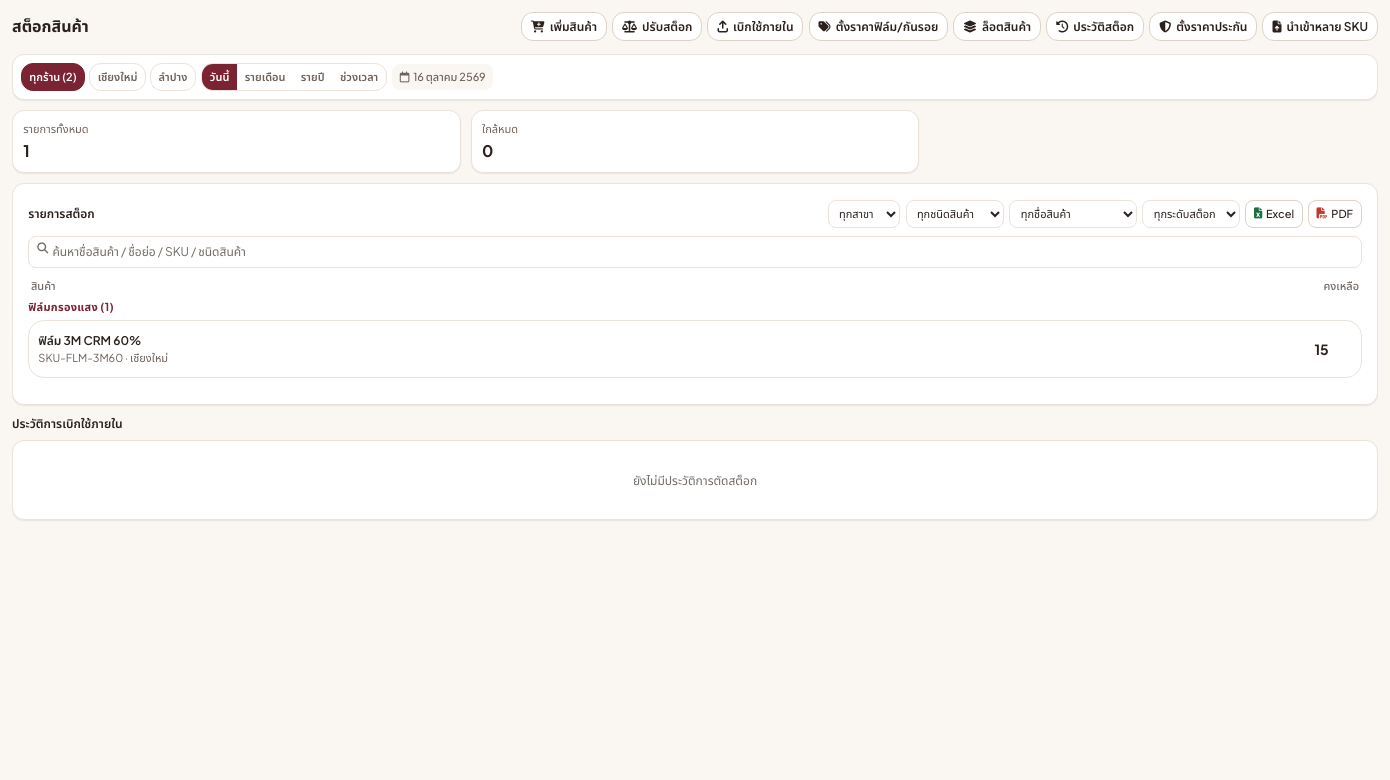
Test: StockModule — ตั้งราคาฟิล์ม แยกตามสาขา › เก็บราคาไว้กับสาขาที่เลือก — ราคากลางไม่ถูกทับ
Click the button "ตั้งราคาฟิล์ม/กันรอย" at (878, 27), box top-left (809, 12), bottom-right (948, 41)
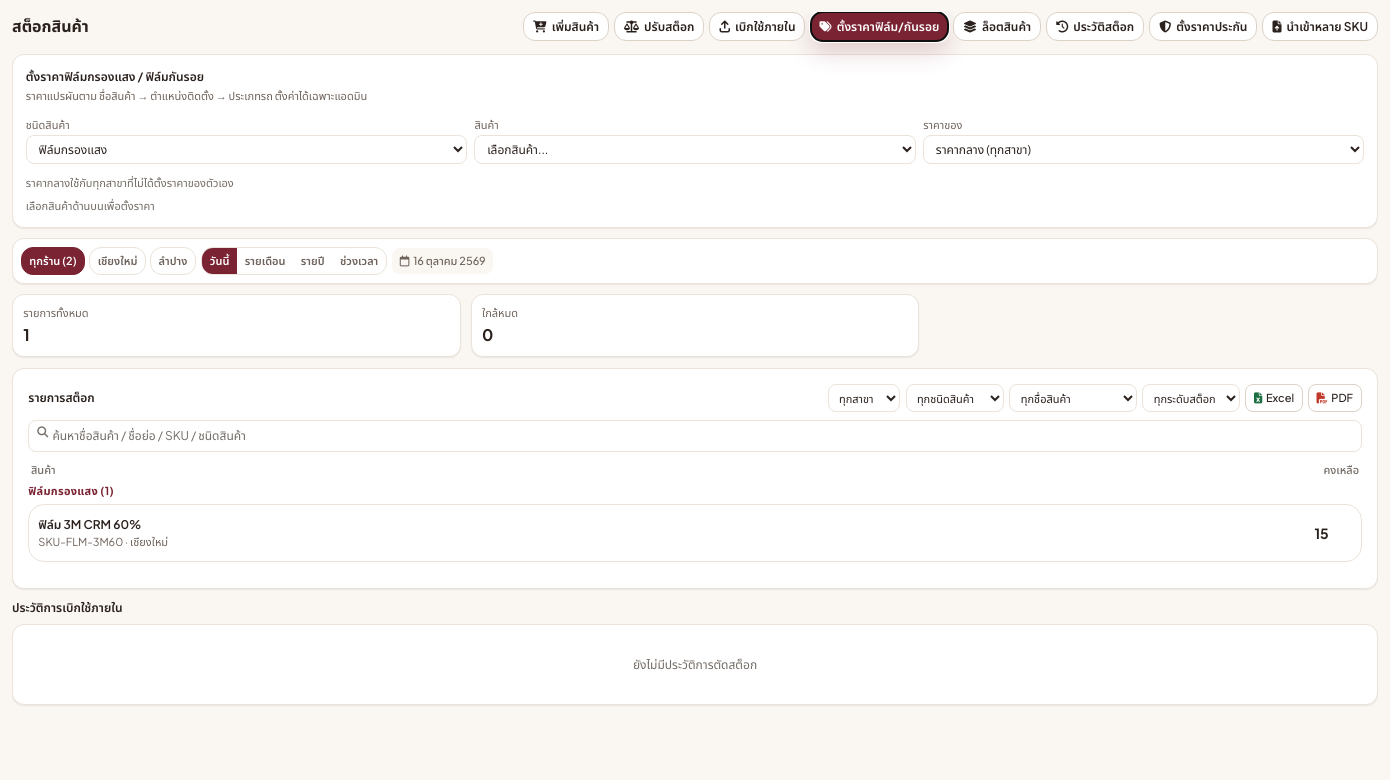
Select "ฟิล์ม 3M CRM 60%" in the dropdown named "สินค้าสำหรับตั้งราคา" at (695, 150), box top-left (474, 135), bottom-right (916, 164)
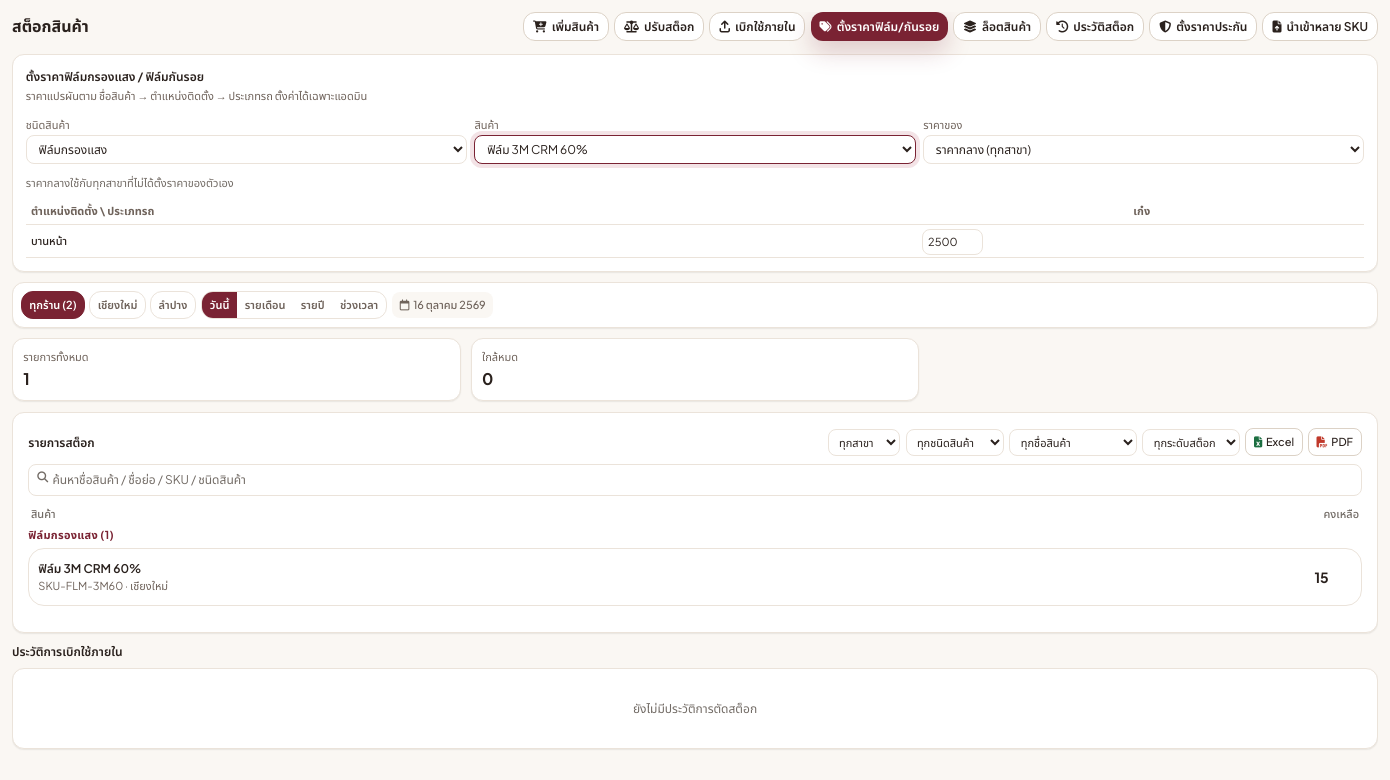
Now the number field named "ราคา บานหน้า เก๋ง" holds "2500", box top-left (922, 229), bottom-right (983, 255)
Select "ลำปาง" in the dropdown named "สาขาสำหรับตั้งราคา" at (1144, 150), box top-left (923, 135), bottom-right (1364, 164)
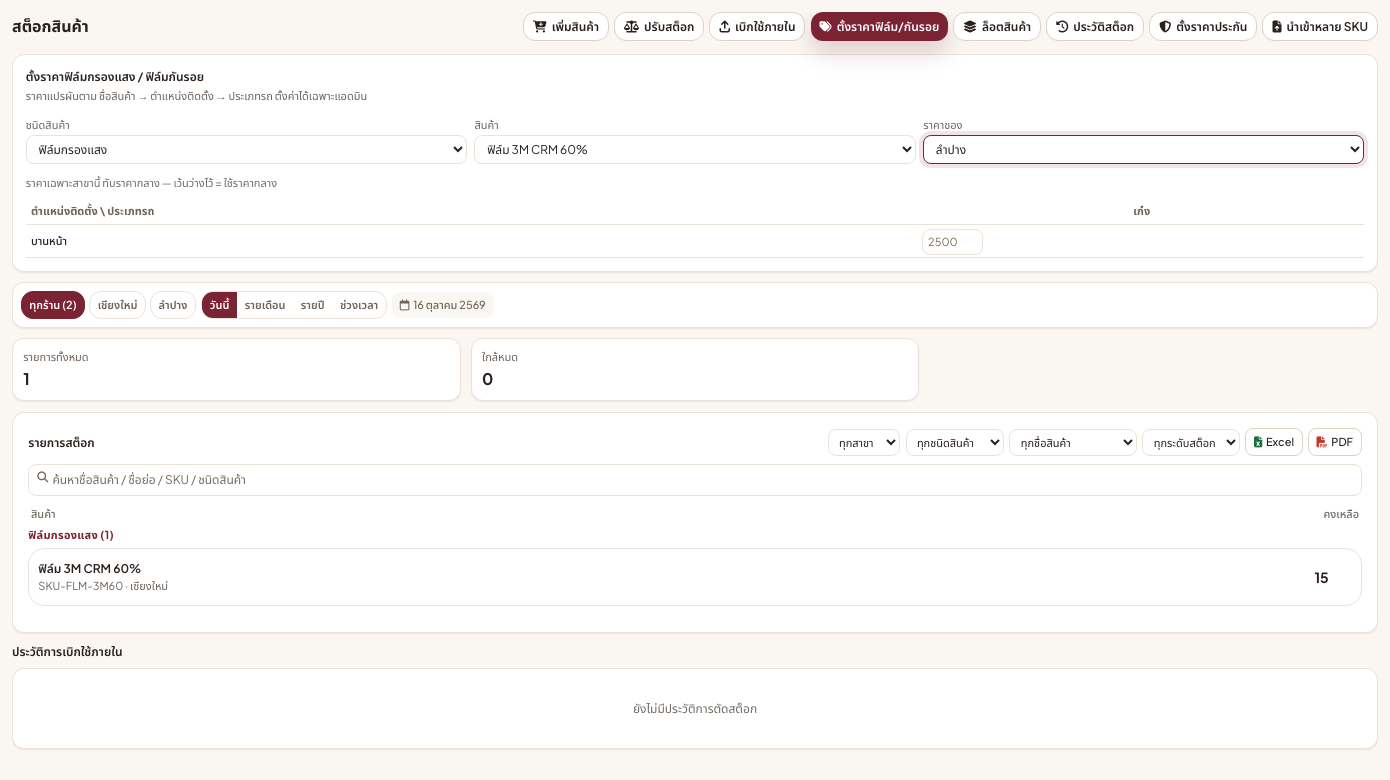
Now the number field named "ราคา บานหน้า เก๋ง" is not empty
Type "2800" into the number field named "ราคา บานหน้า เก๋ง" at (953, 242), box top-left (922, 229), bottom-right (983, 255)
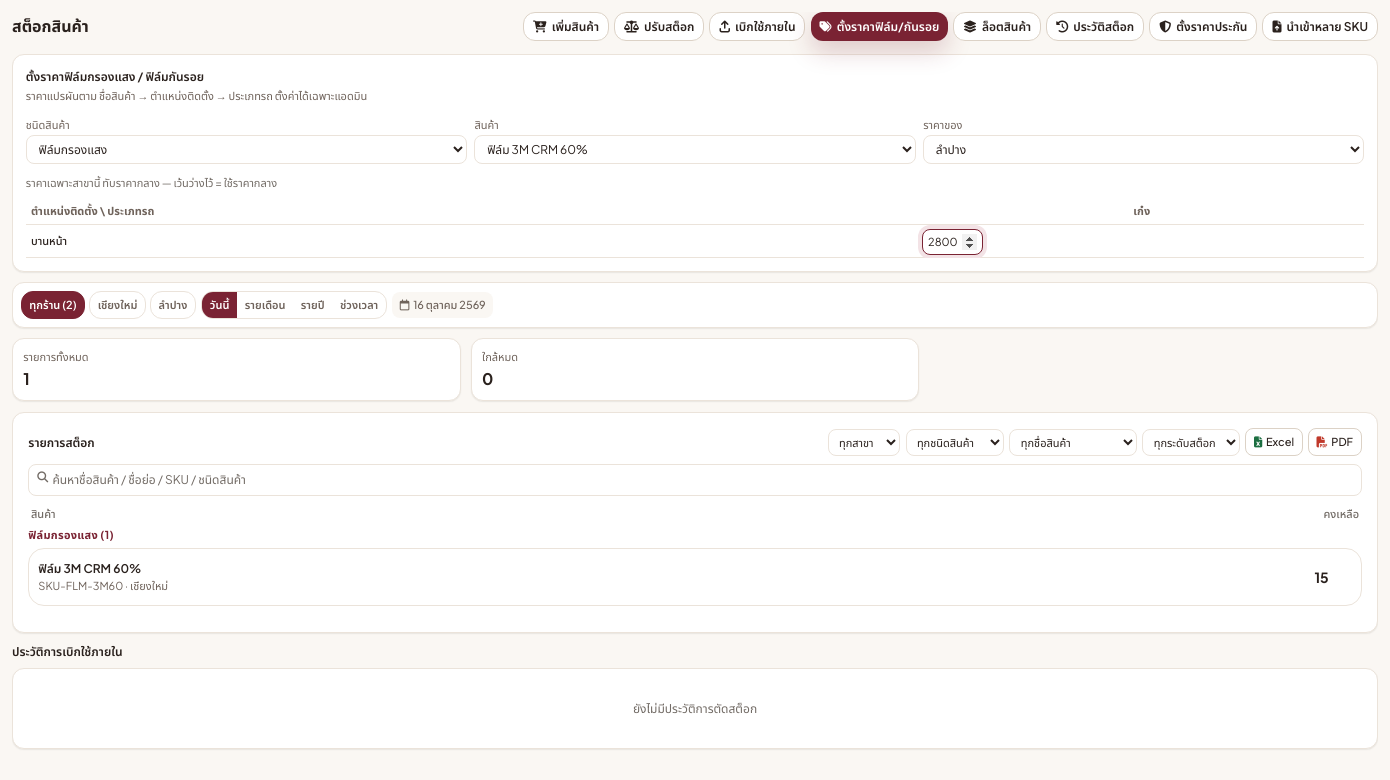
Select "ราคากลาง (ทุกสาขา)" in the dropdown named "สาขาสำหรับตั้งราคา" at (1144, 150), box top-left (923, 135), bottom-right (1364, 164)
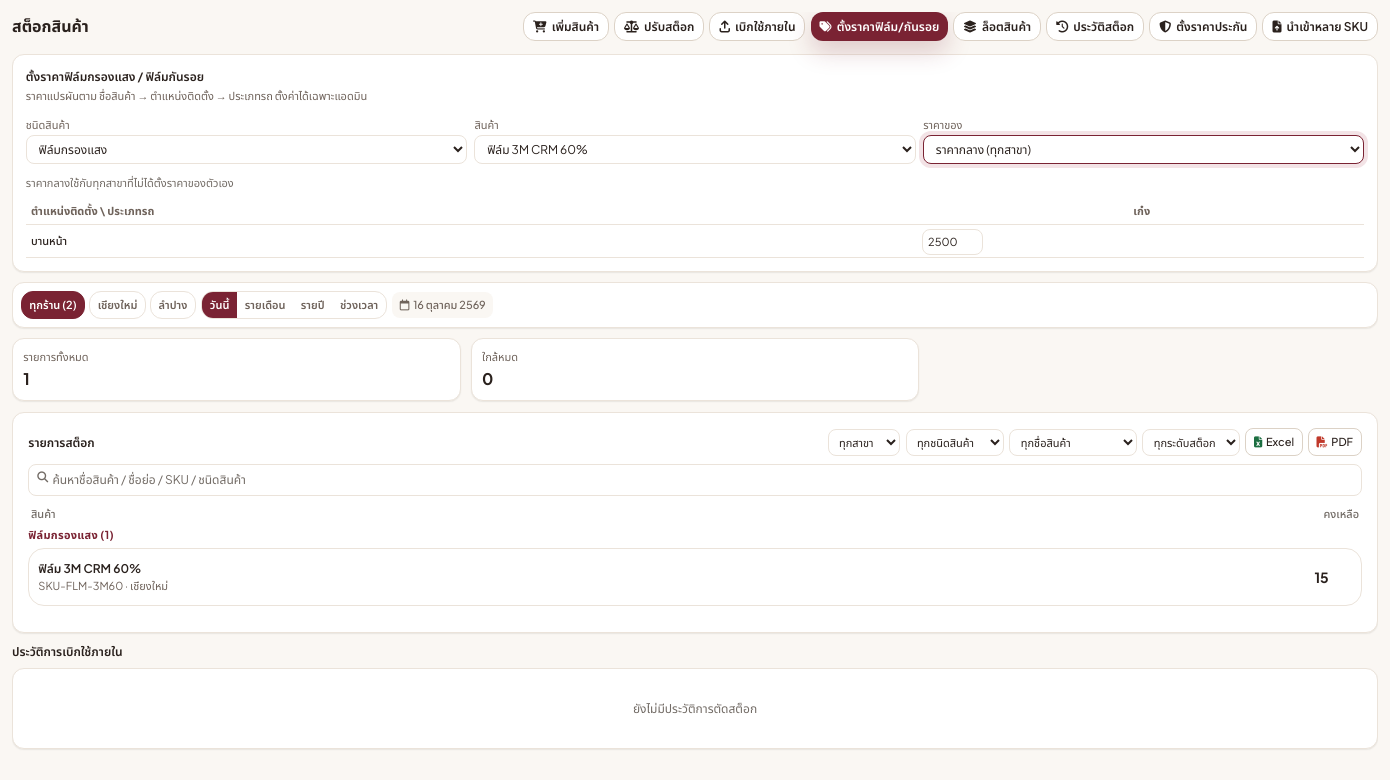
Now the number field named "ราคา บานหน้า เก๋ง" holds "2500", box top-left (922, 229), bottom-right (983, 255)
